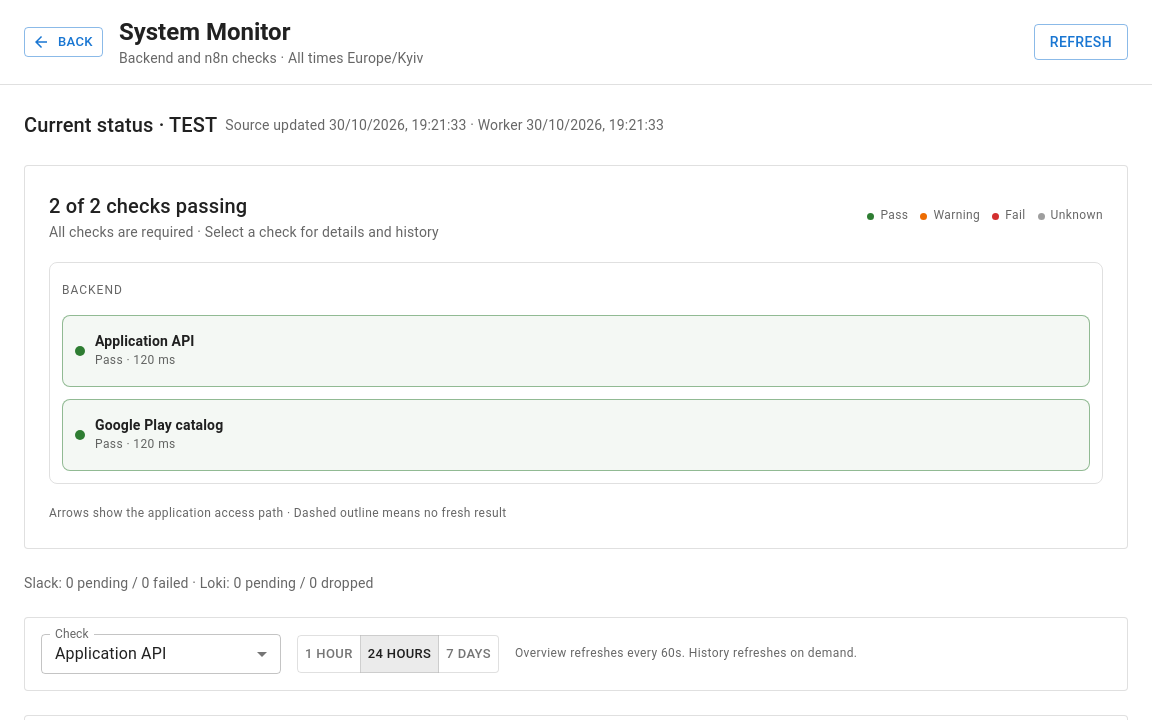
Test: selects a map node and loads its exact result and history
The image size is (1152, 720).
Click the button with aria-label "Google Play catalog: Pass, Fresh": [159, 425] box [62, 399, 1090, 471]
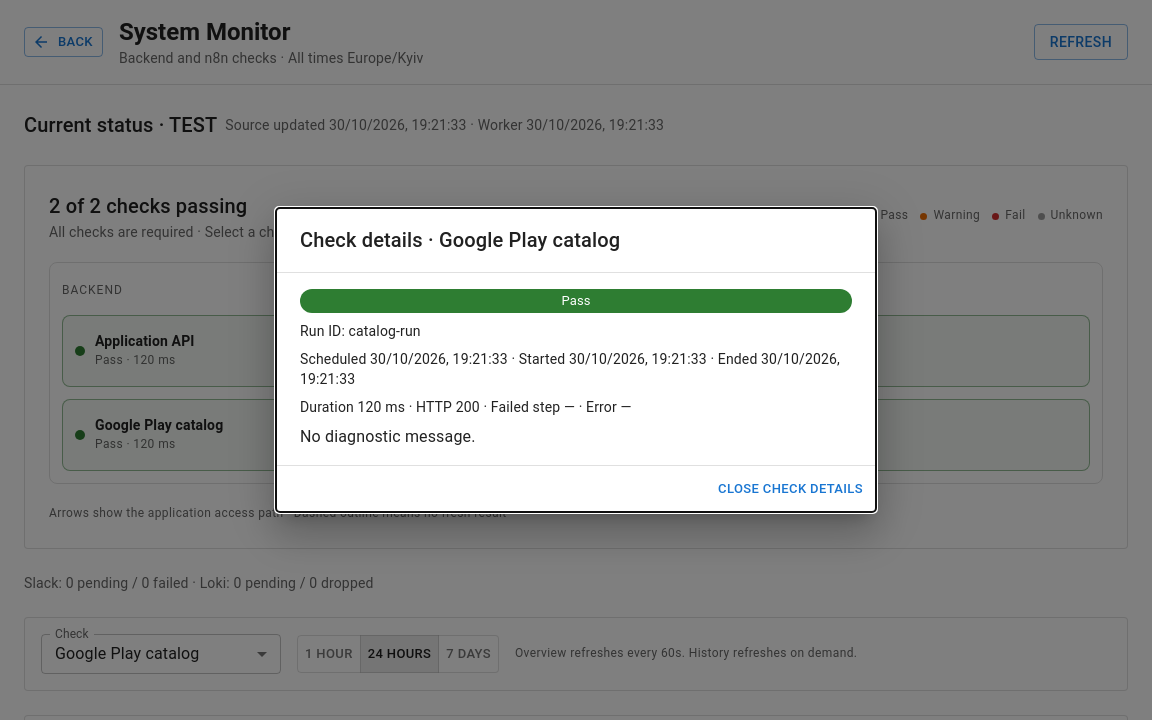
Expected: the heading "Check details · Google Play catalog" is shown, [300, 228, 620, 252]
